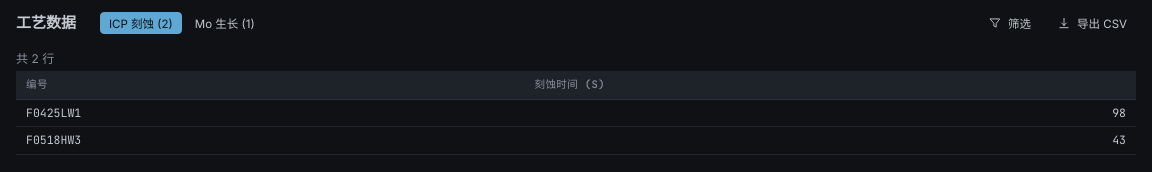
Test: Process 页面 › 点击表头切换排序
Expected: the text "F0425LW1" is shown, [16,99,524,127]
Click the column heading "刻蚀时间 (s)": (830, 85) [524,71,1136,99]
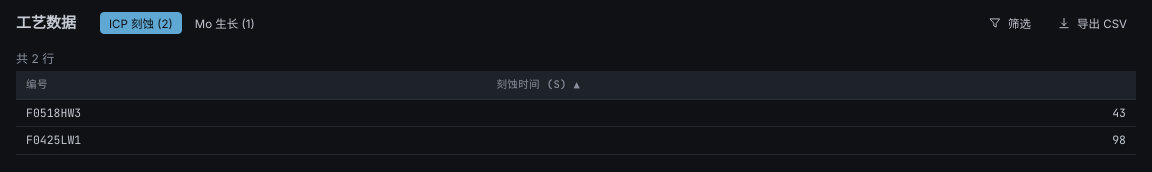
Result: the row "F0518HW3 43" is shown at [16,99,1136,127]
Click the column heading "刻蚀时间 (s) ▲": (811, 85) [486,71,1136,99]
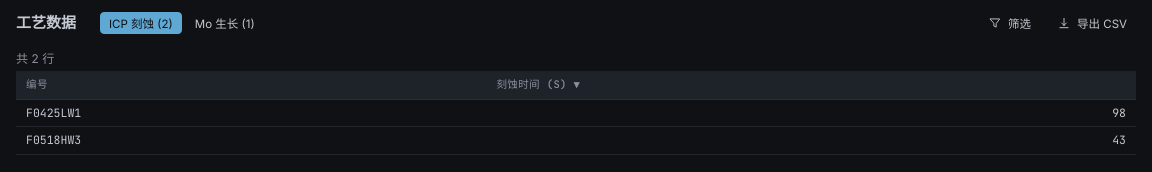
Result: the row "F0425LW1 98" is shown at [16,99,1136,127]
